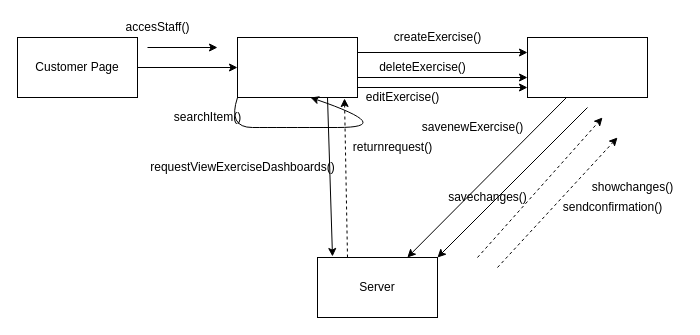
Some shapes in this 700 by 335 pixel diagram are drawn without their labels. Each missing label, with the centre of its shape:
Dashboards: the point at 297,67
Exercises: the point at 587,67
